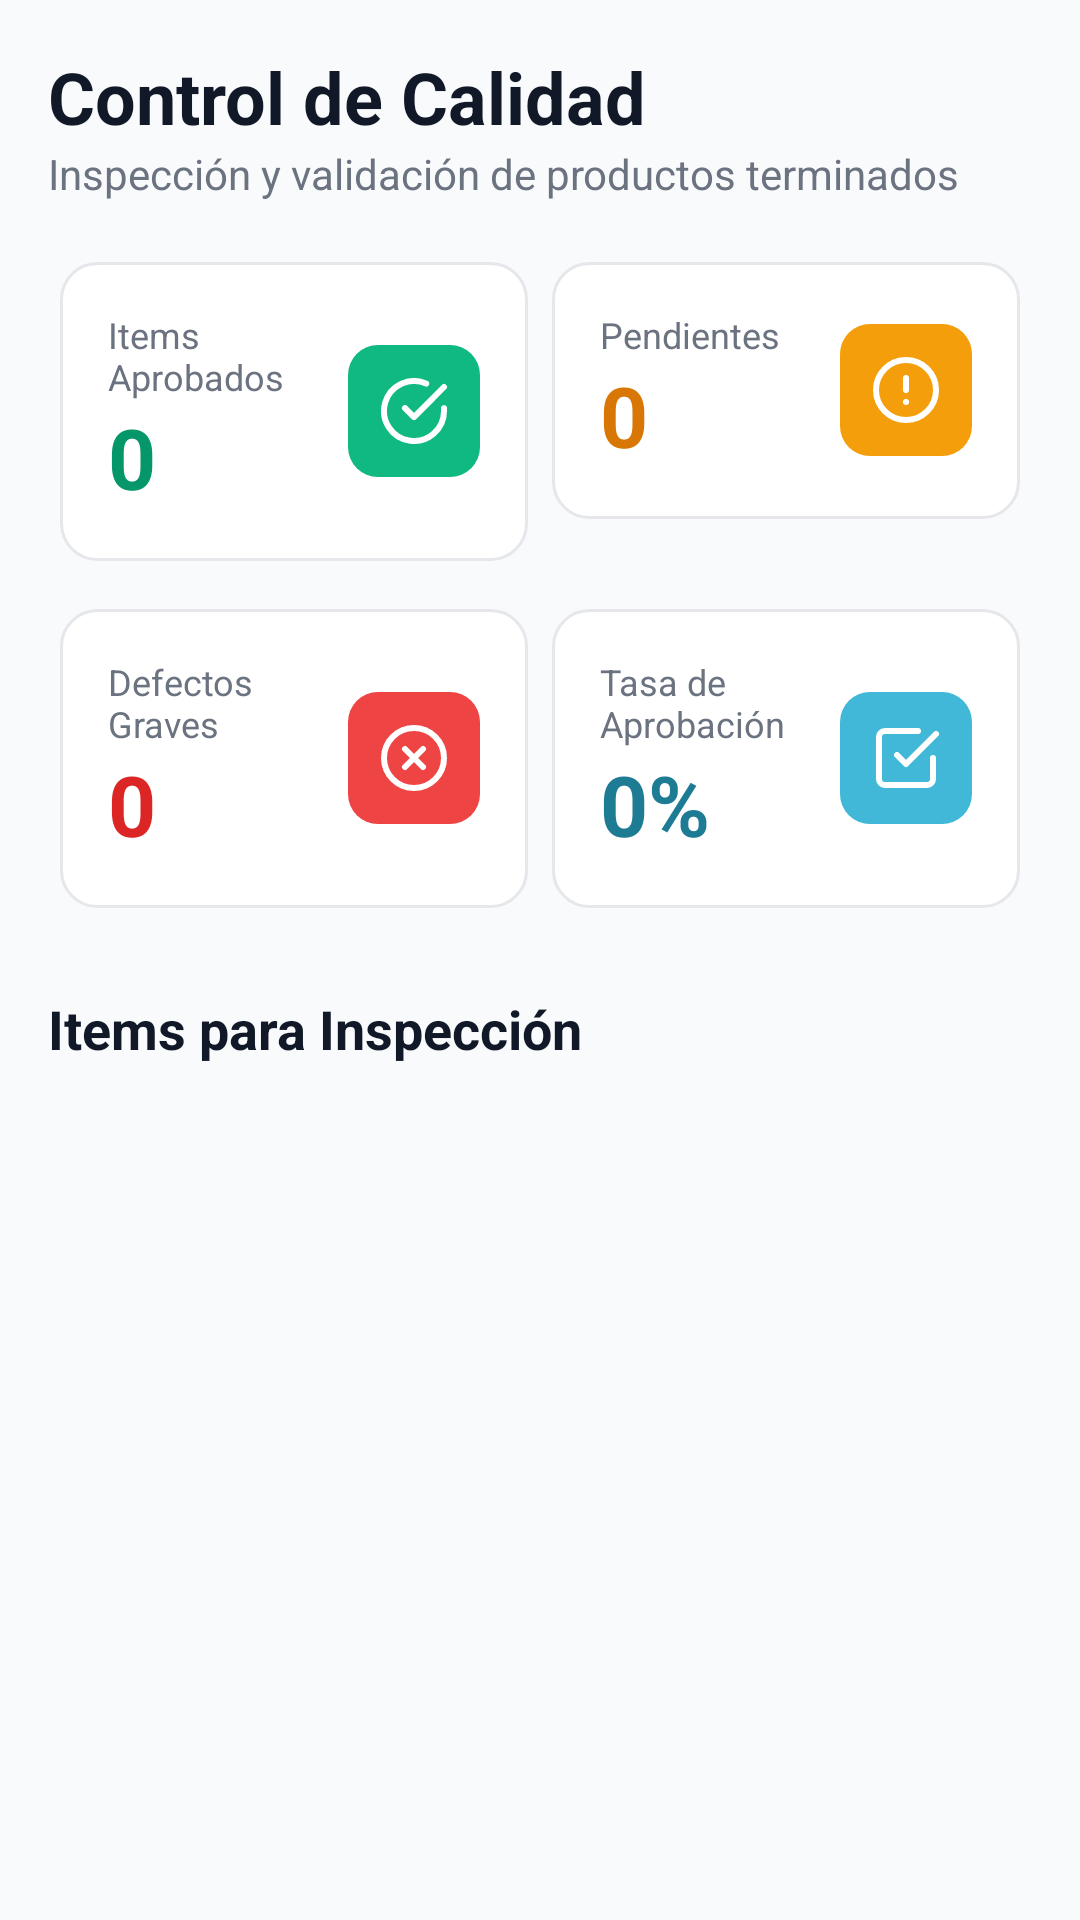

Locate icon controls on the screen. Image size 1080w x 1920h, boxes as (x1, y1, x2, y2).
alert circle: (840, 324, 972, 456)
check circle: (348, 345, 480, 477)
check square: (840, 692, 972, 824)
